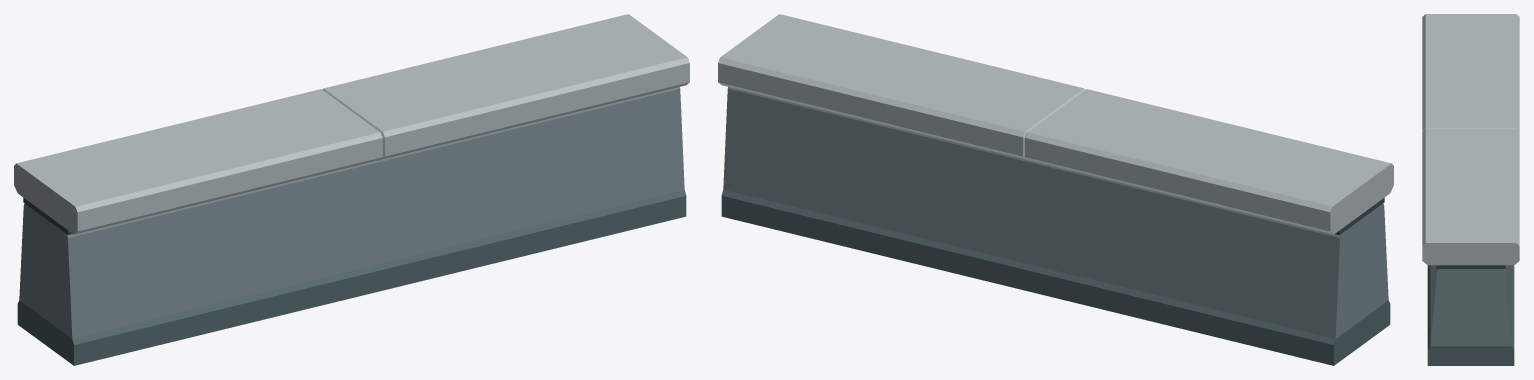
Rendered from city_shore_edges_01.glb.
3 renders of one model, left to right at view 1: azimuth 30°, elevation 25°; view 2: azimuth 150°, elevation 25°; view 3: azimuth 270°, elevation 25°, orthographic. The views are drawn at different scales.
Parts seen in each view (by area): view 1: CityShoreEdges01_Mesh; view 2: CityShoreEdges01_Mesh; view 3: CityShoreEdges01_Mesh.
Part boxes in pixels (x1,y1,x2,y2): CityShoreEdges01_Mesh: (14, 14, 689, 365); CityShoreEdges01_Mesh: (718, 14, 1393, 365); CityShoreEdges01_Mesh: (1422, 14, 1519, 365).
Bounding box in the file's own units: 4 × 1 × 0.72.
